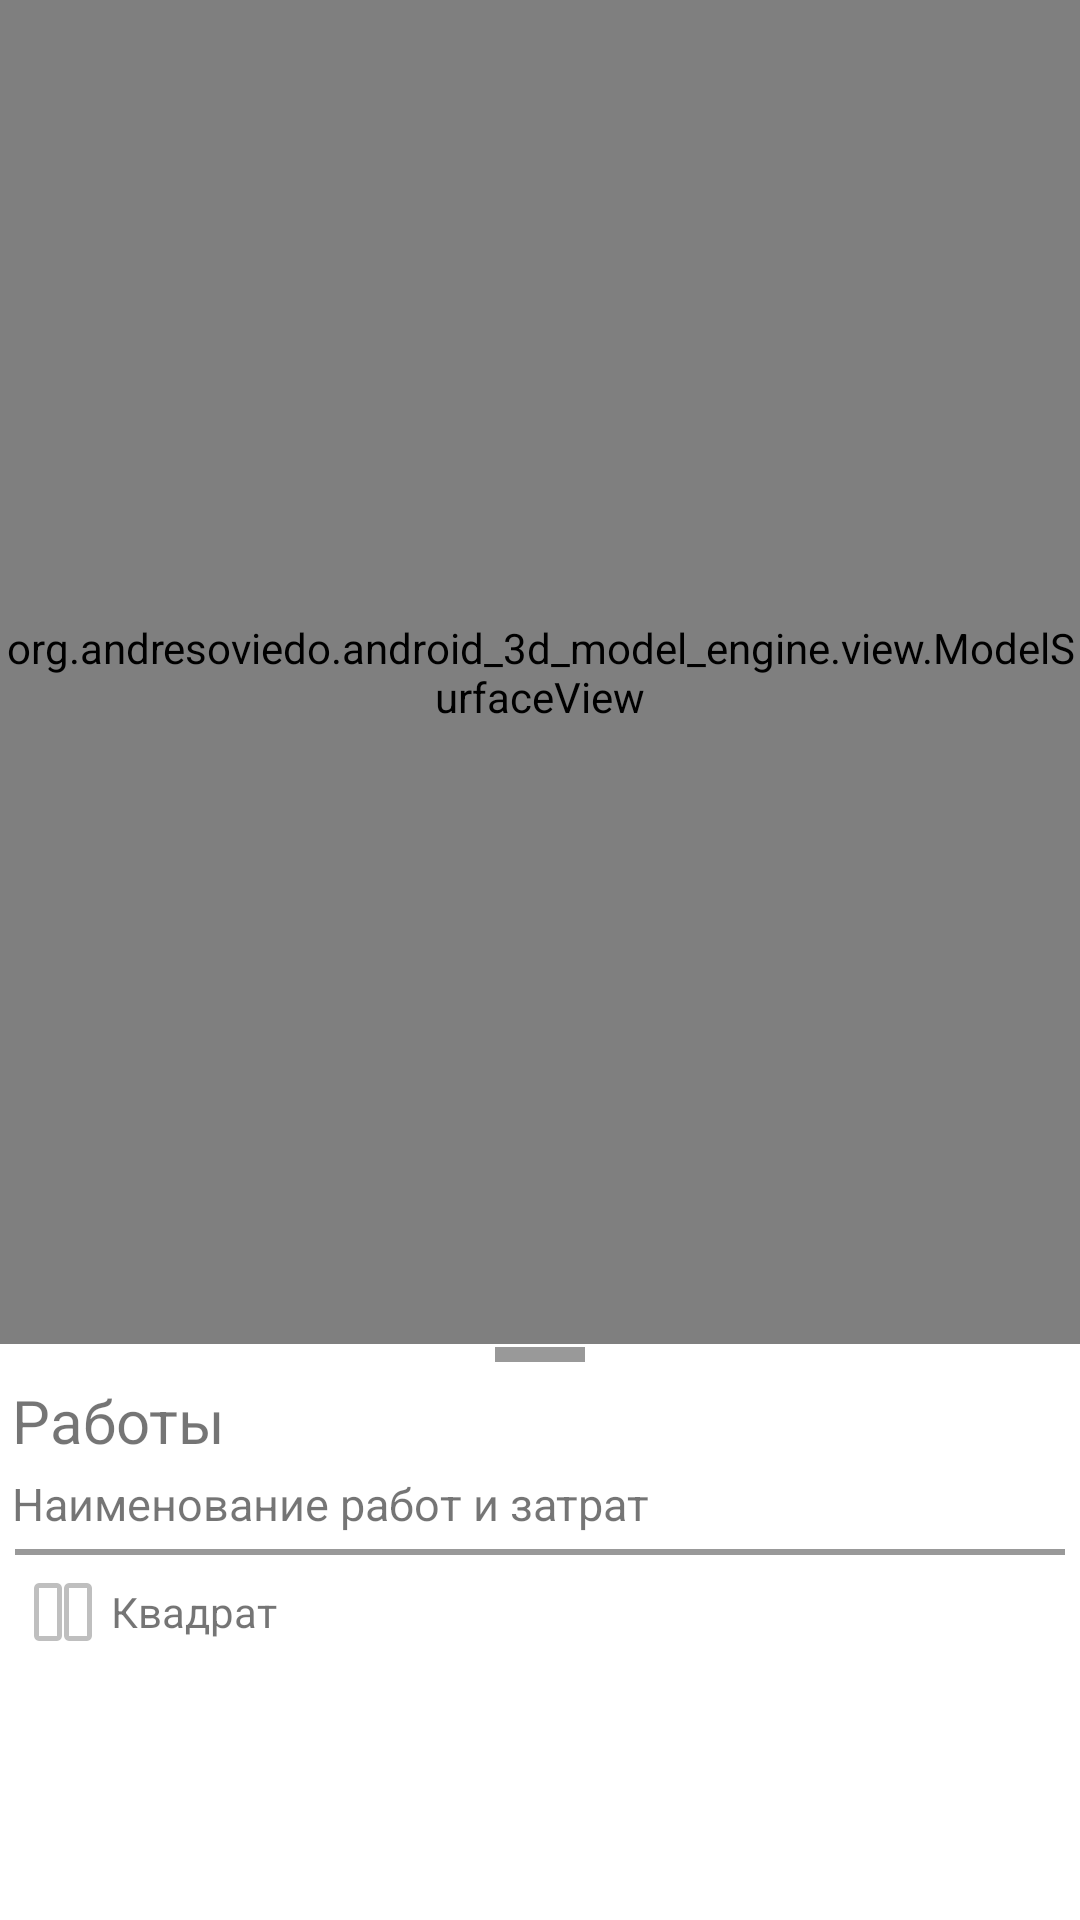

Named icons in this screenshot (1080*1920) and their bounding boxes, (x1=x1, y1=y1, x2=x2, y2=y2):
pause: (x1=34, y1=1583, x2=92, y2=1641)
